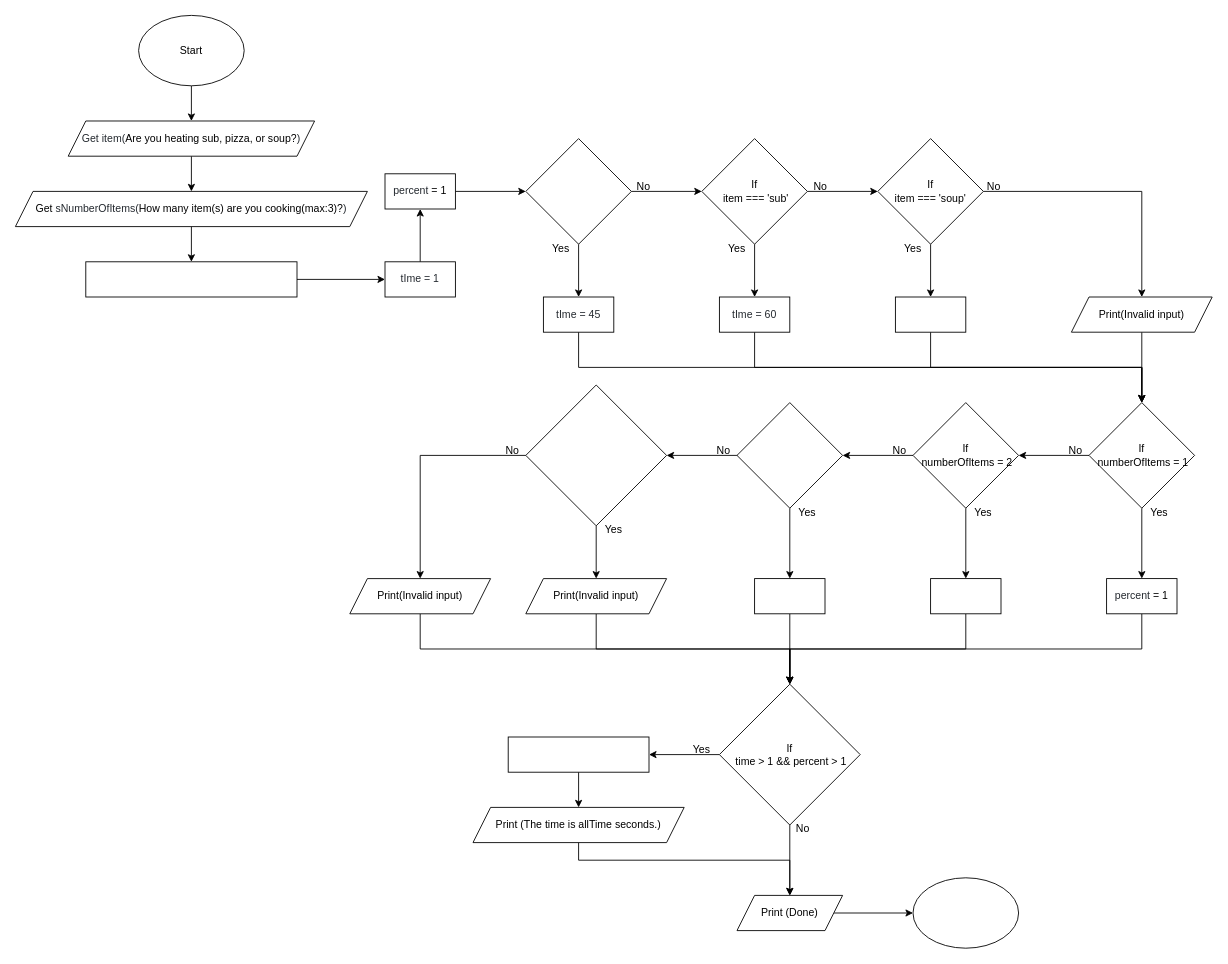
The diagram is 1228 pixels wide and 964 high, and some of its shapes have lost their labels. Here are the shapes that lost their labels. From the top down, the centre of each, then its label:
At point 578,191: "If item === 'pizza'".
At point 191,279: "numberOfItems = parseInt ( sNumberOfItems )".
At point 930,314: "tIme = 105".
At point 596,455: "If isNaN(+numberOfItems)".
At point 789,455: "If numberOfItems = 3".
At point 789,596: "percent = 2".
At point 965,596: "percent = 1.5".
At point 578,754: "allTime = time * percent".
At point 965,912: "Stop".
